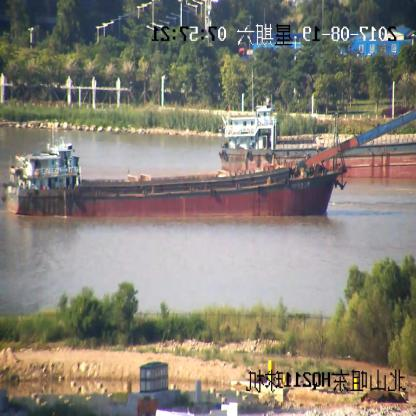Bulk Carrier: (3, 110, 415, 216), (220, 98, 416, 173)
